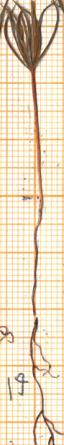flower: (4, 0, 63, 72)
root: (27, 201, 64, 445)
stem: (26, 72, 49, 199)
